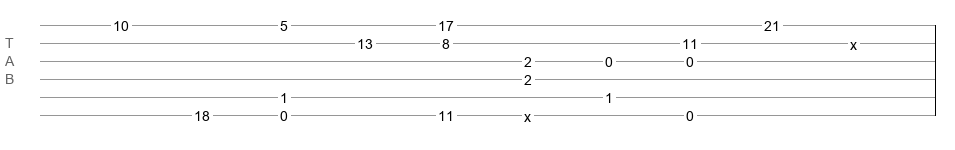0: (280, 108, 288, 118), (605, 54, 613, 64), (686, 108, 694, 118), (686, 54, 694, 64)
1: (280, 90, 288, 100), (605, 90, 613, 100)
10: (113, 18, 129, 28)
11: (438, 108, 454, 118), (682, 36, 698, 46)
13: (357, 36, 373, 46)
17: (438, 18, 454, 28)
18: (194, 108, 210, 118)
2: (524, 54, 532, 64), (524, 72, 532, 82)
21: (764, 18, 780, 28)
5: (280, 18, 288, 28)
8: (442, 36, 450, 46)
x: (524, 109, 531, 117), (850, 37, 857, 45)
